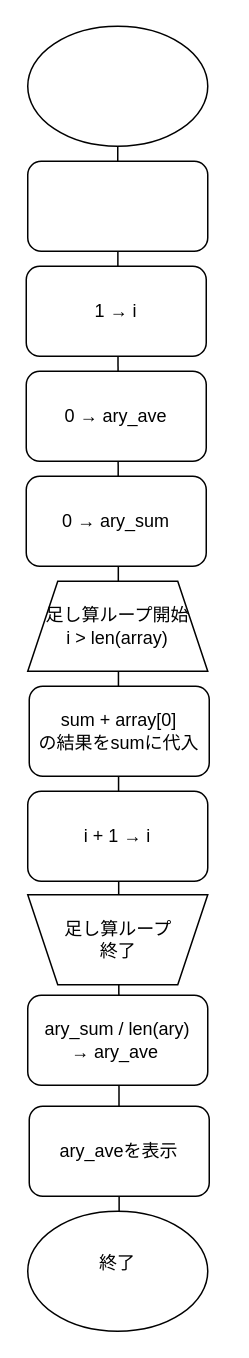
The diagram is 249 pixels wide and 1358 high, and some of its shapes have lost their labels. The centre of each missing label's shape, as x and y in pixels:
"配列aryを宣言し、初期化" belongs at point 117,205.
"開始" belongs at point 117,85.
